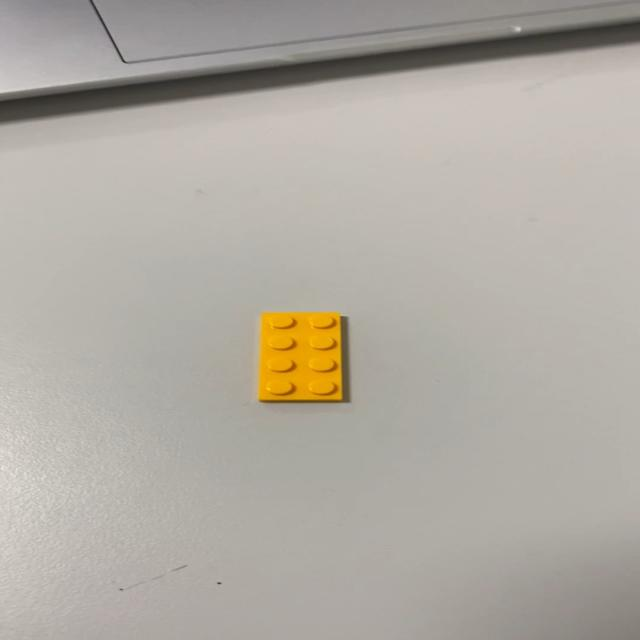C4x2x0: (256, 311, 344, 403)
